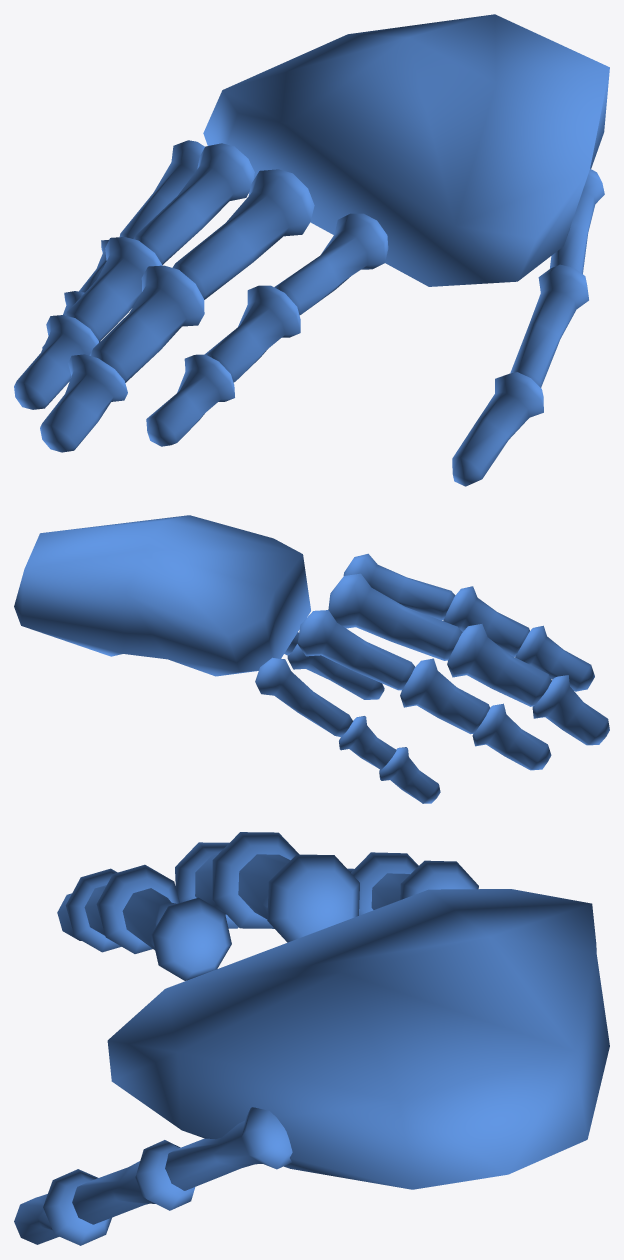
The model's file is hand.obj.
3 views of the same model, one above another, from view 1: azimuth 30°, elevation 25°; view 2: azimuth 150°, elevation 25°; view 3: azimuth 270°, elevation 25° (orthographic). The views are drawn at different scales.
Visible parts, largest first — view 1: hand; view 2: hand; view 3: hand.
Part boxes in pixels (x1,y1,x2,y2): hand: [14, 14, 609, 486]; hand: [14, 515, 609, 803]; hand: [14, 832, 609, 1245].
Bounding box in the file's own units: 4.34 × 1.86 × 2.68.
